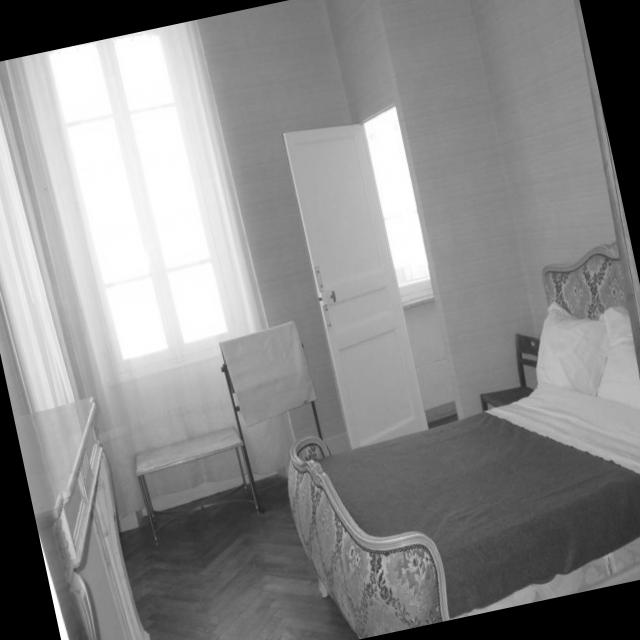2001: (36, 24, 245, 376)
bed -occluded-: (286, 234, 640, 636)
door bars: (280, 123, 425, 438)
floor -X: (121, 498, 345, 640)
pillow occluded: (537, 300, 609, 394)
table -X: (132, 424, 252, 536)
